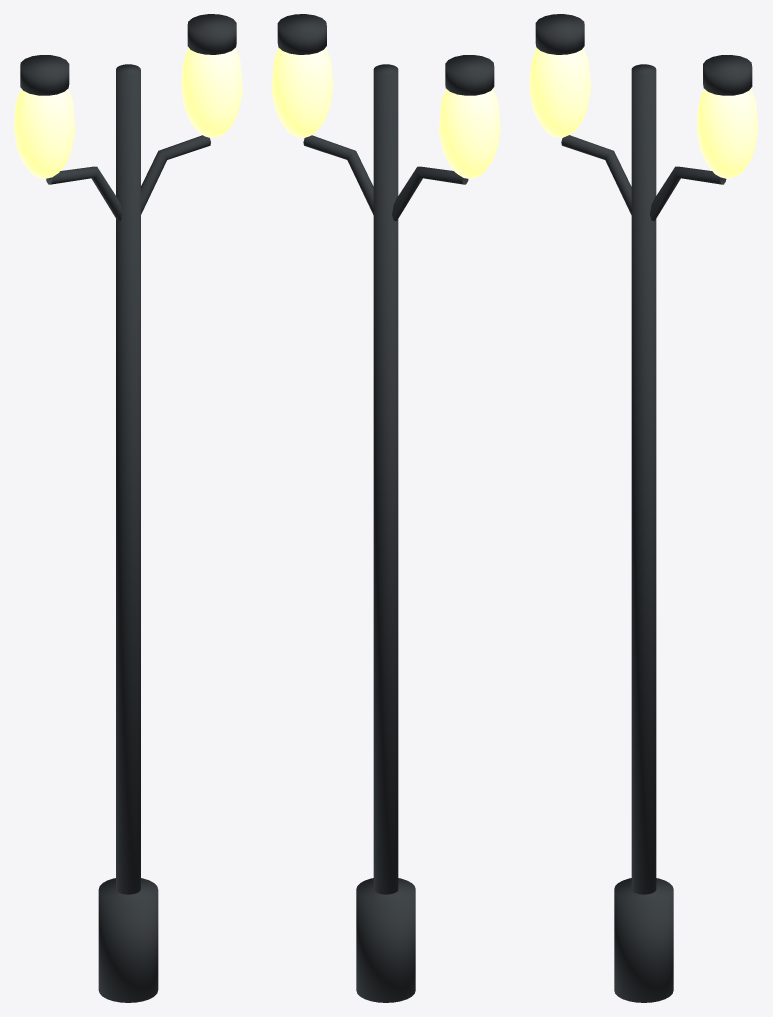
File: DS_Environment_Streetlight_01_LOD1.glb
3 views of the same model, side by side, from view 1: azimuth 30°, elevation 25°; view 2: azimuth 150°, elevation 25°; view 3: azimuth 330°, elevation 25° (orthographic).
Parts seen in each view (by area): view 1: Pole, Pole_Base, Lamp_Globe, Lamp_Globe.001, Lamp_Cap.001, Lamp_Cap, Lamp_Arm.001, Lamp_Arm; view 2: Pole, Pole_Base, Lamp_Globe, Lamp_Globe.001, Lamp_Cap, Lamp_Cap.001, Lamp_Arm.001, Lamp_Arm; view 3: Pole, Pole_Base, Lamp_Globe, Lamp_Globe.001, Lamp_Cap, Lamp_Cap.001, Lamp_Arm, Lamp_Arm.001.
Boxes of the visible parts, <box> form: Pole: <box>116,64,140,894</box>; Pole_Base: <box>98,878,158,1002</box>; Lamp_Globe: <box>14,89,75,178</box>; Lamp_Globe.001: <box>181,48,242,138</box>; Lamp_Cap.001: <box>187,14,236,54</box>; Lamp_Cap: <box>20,55,69,95</box>; Lamp_Arm.001: <box>140,135,210,214</box>; Lamp_Arm: <box>46,166,122,220</box>; Pole: <box>373,64,398,894</box>; Pole_Base: <box>356,878,415,1002</box>; Lamp_Globe: <box>439,88,500,178</box>; Lamp_Globe.001: <box>271,47,332,138</box>; Lamp_Cap: <box>445,55,494,95</box>; Lamp_Cap.001: <box>277,14,326,54</box>; Lamp_Arm.001: <box>303,135,373,214</box>; Lamp_Arm: <box>392,166,468,220</box>; Pole: <box>631,64,656,894</box>; Pole_Base: <box>614,878,673,1002</box>; Lamp_Globe: <box>529,48,590,138</box>; Lamp_Globe.001: <box>697,88,758,179</box>; Lamp_Cap: <box>535,14,584,54</box>; Lamp_Cap.001: <box>703,55,752,95</box>; Lamp_Arm: <box>561,135,631,214</box>; Lamp_Arm.001: <box>650,166,726,220</box>.
Bounding box in the file's own units: 1.03 × 4.21 × 0.25.
